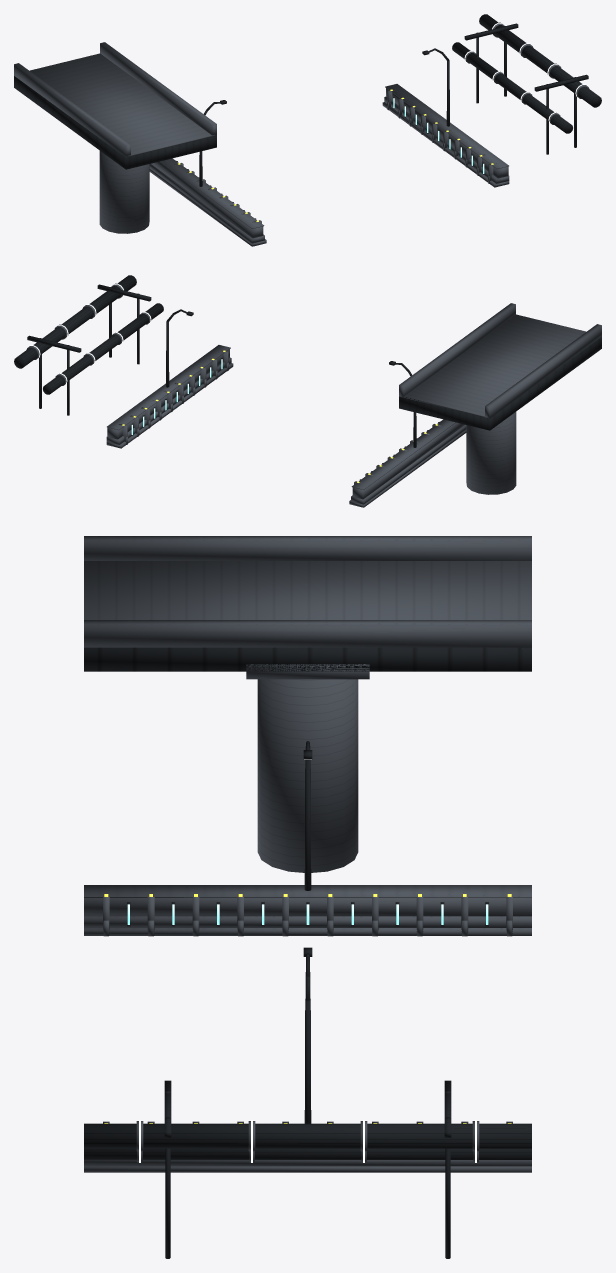
The model's file is night-drive-midgar.glb.
3 renders of one model, top to bottom at view 1: azimuth 30°, elevation 25°; view 2: azimuth 150°, elevation 25°; view 3: azimuth 270°, elevation 25°, orthographic. The views are drawn at different scales.
Parts seen in each view (by area): view 1: night-drive-midgar; view 2: night-drive-midgar; view 3: night-drive-midgar.
Part boxes in pixels (<box>): night-drive-midgar: <box>14,14,601,246</box>; night-drive-midgar: <box>14,275,601,507</box>; night-drive-midgar: <box>84,536,531,1258</box>.
Size of the model in its own units: 39.8 by 10.35 by 16.
1 material, 1 textured.
